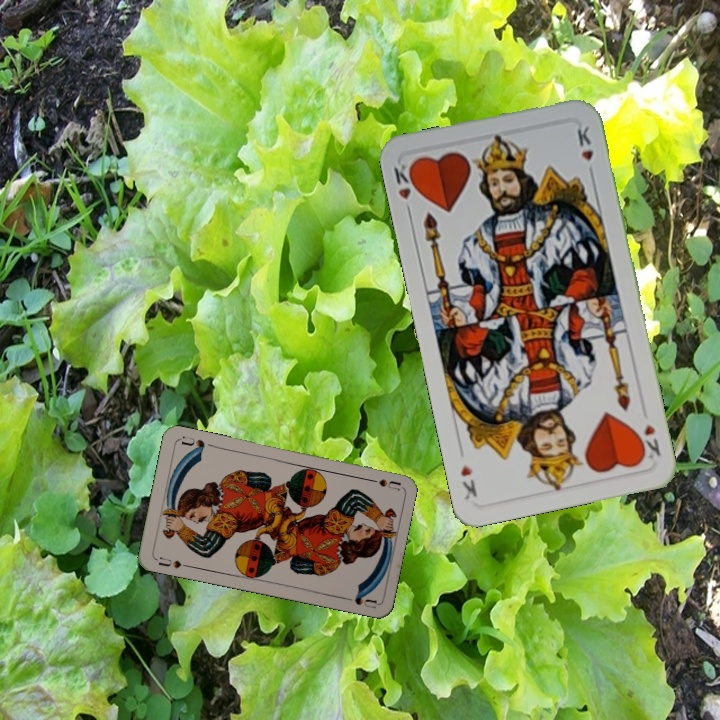HK: (389, 159, 421, 203), (634, 420, 664, 464)
SU: (361, 474, 402, 493), (154, 553, 192, 571)
